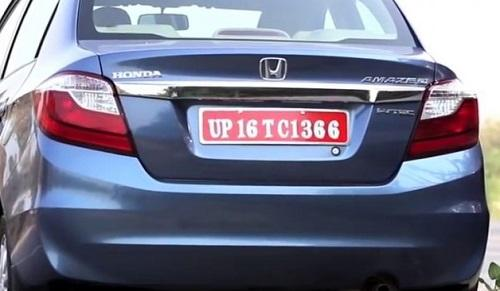License-Plate: (201, 105, 348, 149)
